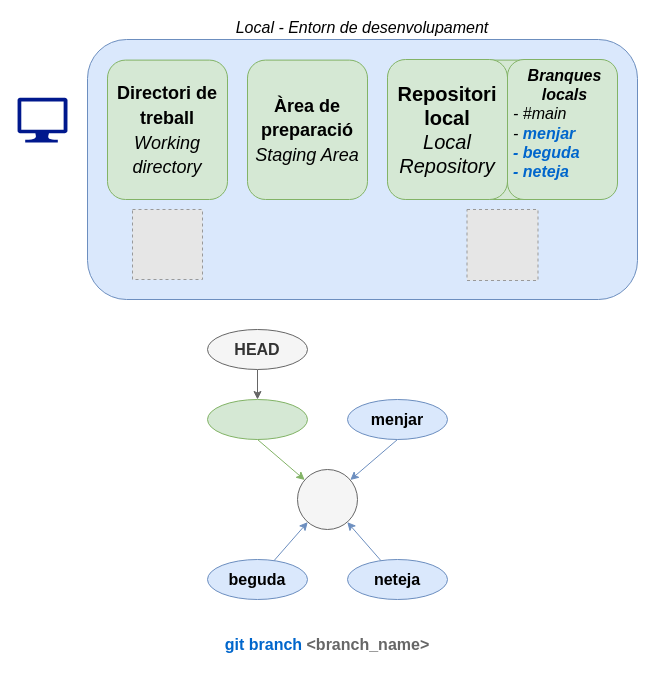
The diagram is 655 pixels wide and 676 high, and some of its shapes have lost their labels. Grey dashed boxes stand in for pictures. The shapes that lost their labels are listed below. From the top down, each one's centre as x and y in pixels, then its label:
At [257,419]: "main".
At [327,499]: "Commit inicial".
